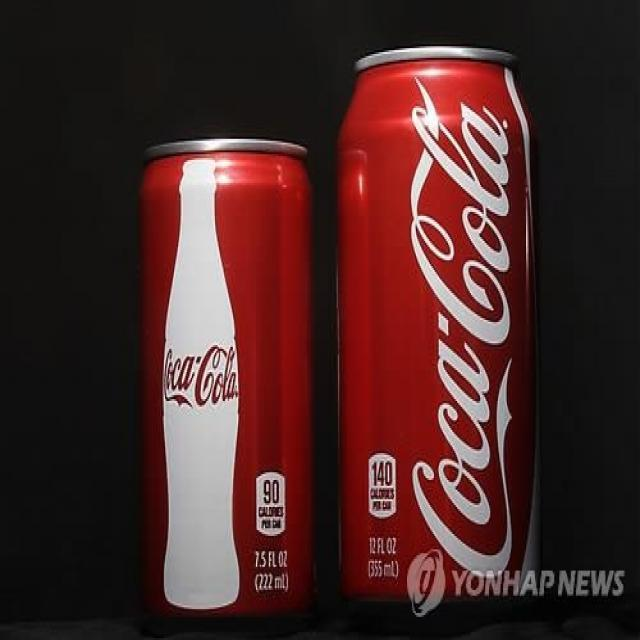coca-cola: (332, 38, 544, 622), (138, 132, 318, 628)
